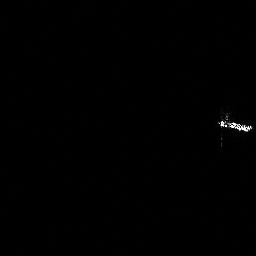ship: (217, 109, 253, 149)
